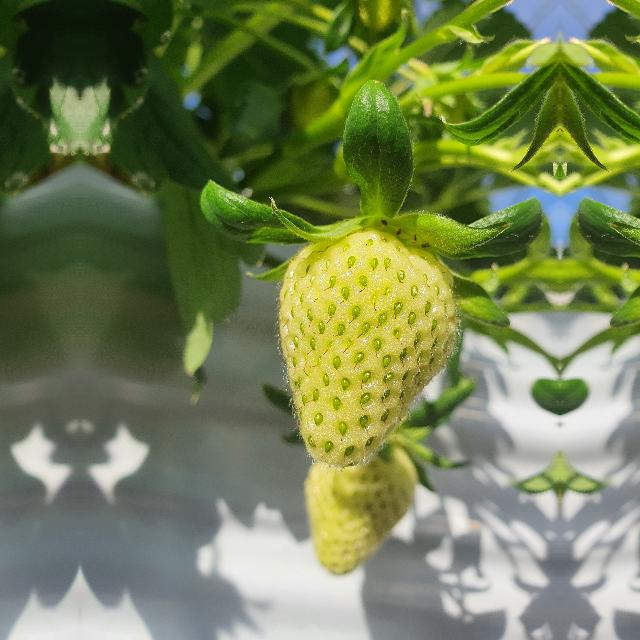Health_25: (278, 227, 458, 467)
